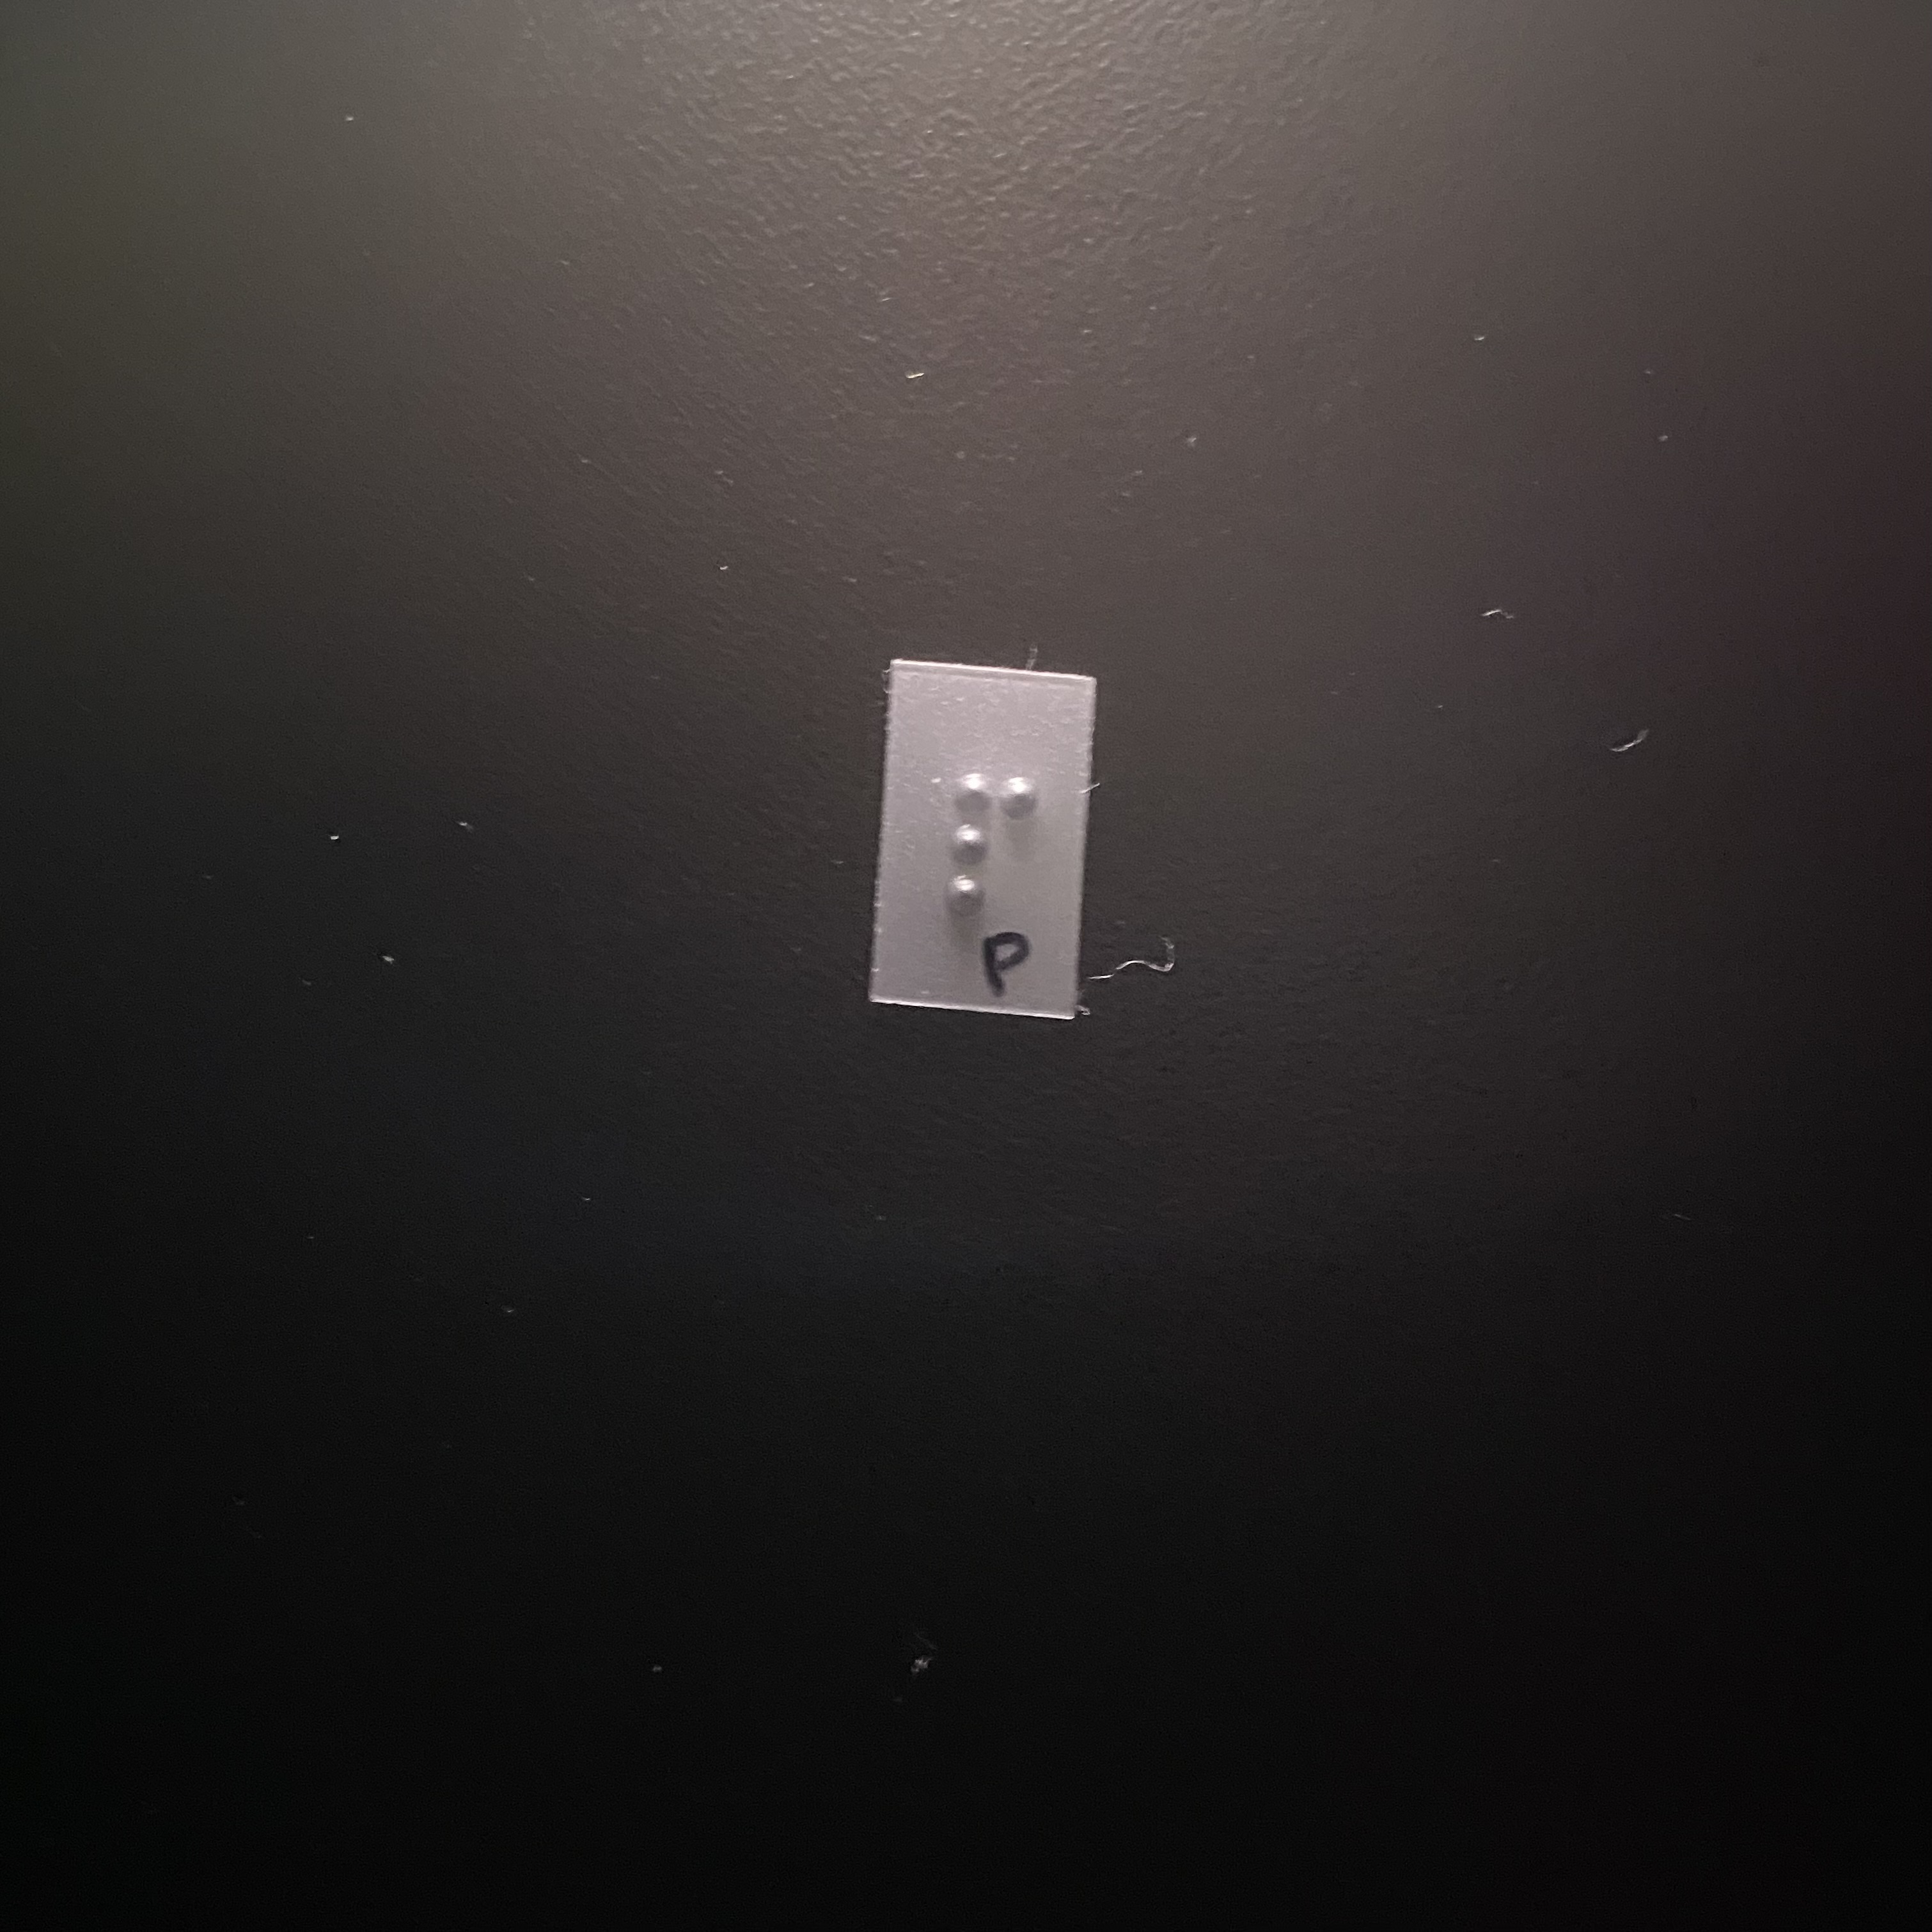p: (941, 759, 1052, 925)
